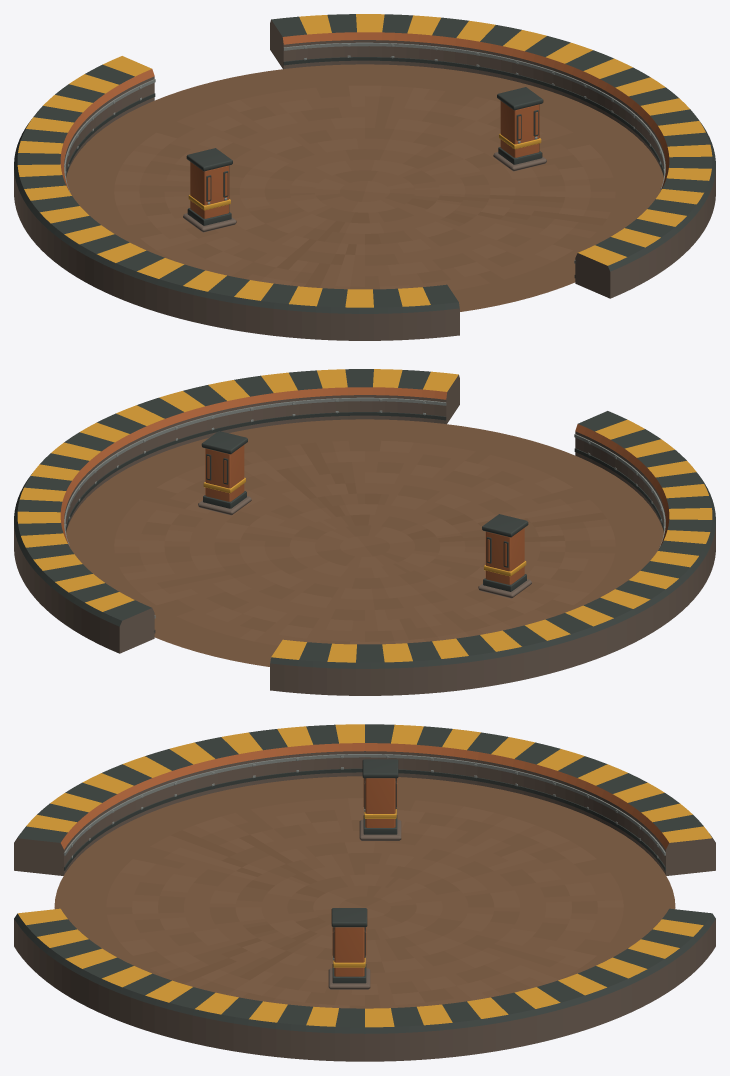
The model's file is e8b-big-pallet-pit.glb.
3 views of the same model, one above another, from view 1: azimuth 30°, elevation 25°; view 2: azimuth 150°, elevation 25°; view 3: azimuth 270°, elevation 25° (orthographic). The views are drawn at different scales.
Visible parts, largest first — view 1: Arced yard floor | 12 m radius, Split wall assembly, Pair of provisional pillared obstacles; view 2: Arced yard floor | 12 m radius, Split wall assembly, Pair of provisional pillared obstacles; view 3: Arced yard floor | 12 m radius, Split wall assembly, Pair of provisional pillared obstacles.
Boxes of the visible parts, box(x1,y1,x2,y2) form: Arced yard floor | 12 m radius: box(66, 64, 663, 311); Split wall assembly: box(14, 14, 715, 340); Pair of provisional pillared obstacles: box(183, 87, 546, 232); Arced yard floor | 12 m radius: box(66, 419, 663, 666); Split wall assembly: box(14, 369, 715, 695); Pair of provisional pillared obstacles: box(198, 431, 531, 598); Arced yard floor | 12 m radius: box(54, 776, 675, 1008); Split wall assembly: box(14, 724, 715, 1061); Pair of provisional pillared obstacles: box(328, 759, 401, 989).
Bounding box in the file's own units: 28 × 2.9 × 27.13.
